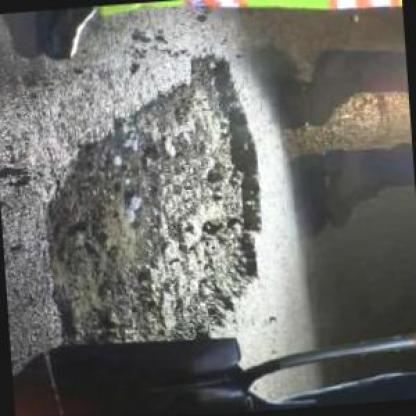pothole: (36, 49, 276, 374)
